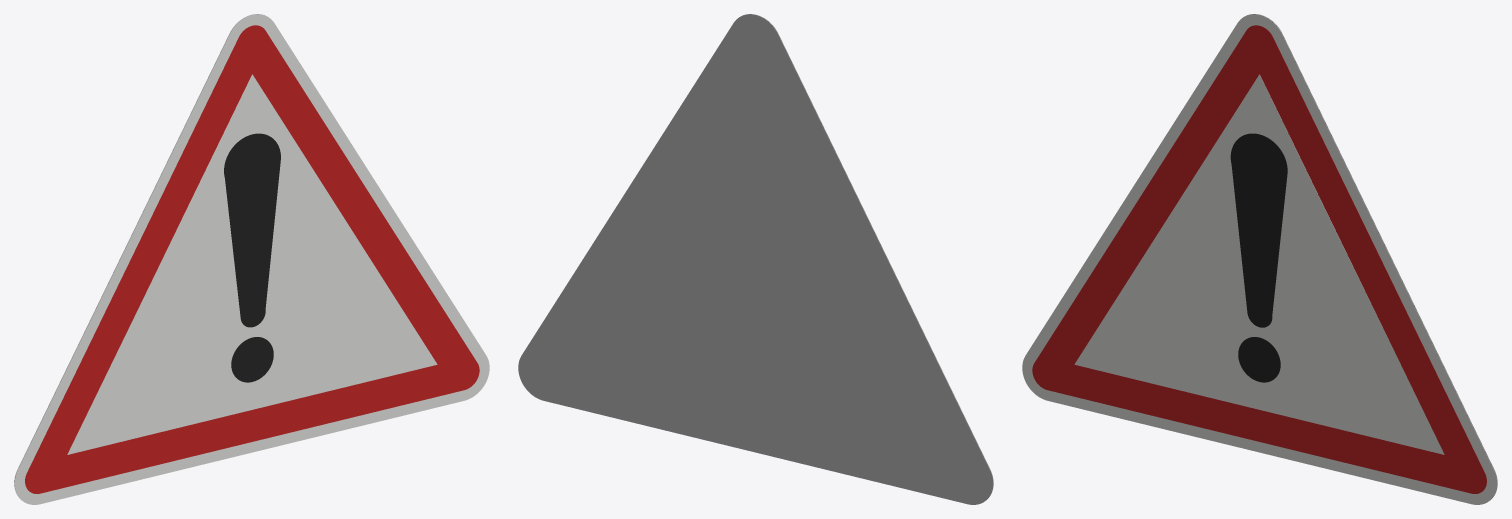
3 renders of one model, left to right at view 1: azimuth 30°, elevation 25°; view 2: azimuth 150°, elevation 25°; view 3: azimuth 330°, elevation 25°, orthographic.
Parts seen in each view (by area): view 1: A14_p02, A14_p01, A14_p00, A14_p04, A14_p03, A14_dos; view 2: A14_dos, A14_p00; view 3: A14_p02, A14_p01, A14_p00, A14_p04, A14_p03, A14_dos.
Part boxes in pixels (box(x1,y1,x2,y2)): A14_p02: box(67, 74, 437, 454); A14_p01: box(25, 25, 479, 493); A14_p00: box(14, 14, 489, 504); A14_p04: box(224, 133, 280, 327); A14_p03: box(231, 337, 273, 382); A14_dos: box(14, 14, 265, 500); A14_dos: box(518, 14, 993, 504); A14_p00: box(742, 14, 993, 500); A14_p02: box(1074, 74, 1444, 454); A14_p01: box(1032, 25, 1486, 493); A14_p00: box(1022, 14, 1497, 504); A14_p04: box(1230, 133, 1287, 327); A14_p03: box(1238, 337, 1280, 382); A14_dos: box(1246, 14, 1497, 500).
Size of the model in its own units: 1 by 0.8803 by 0.0035.
